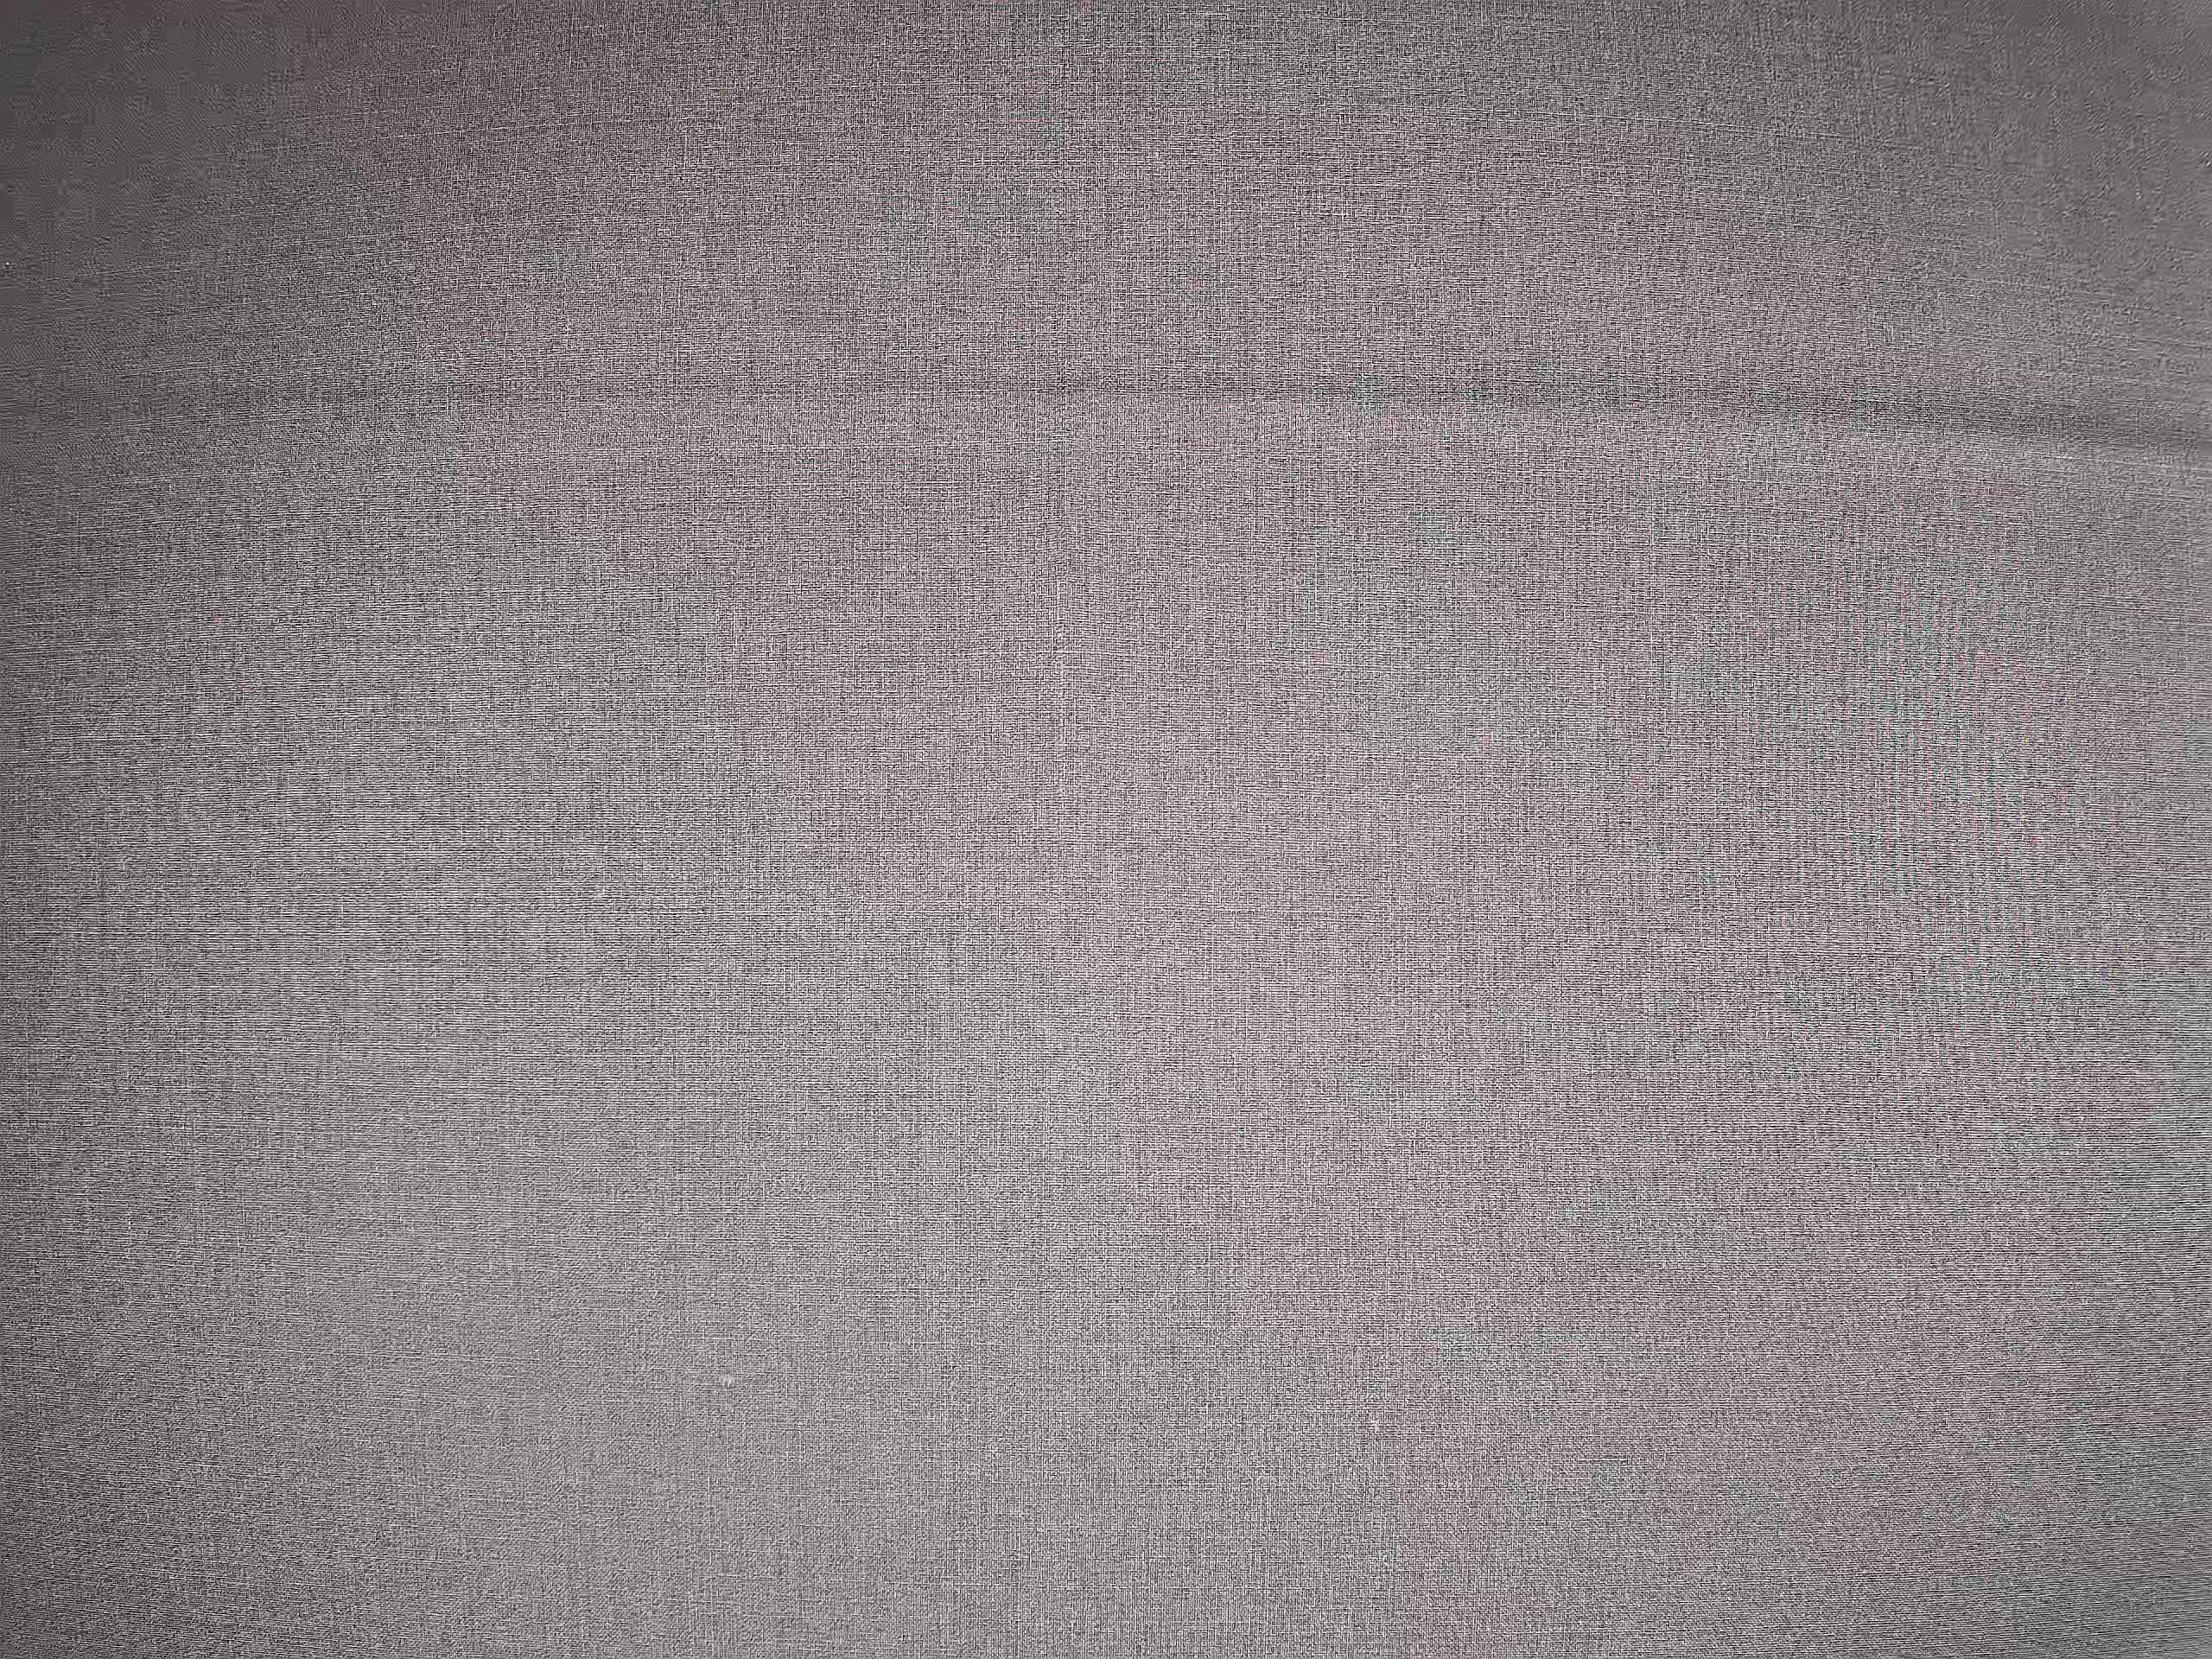hanging-warp: (853, 1241, 1019, 1629)
